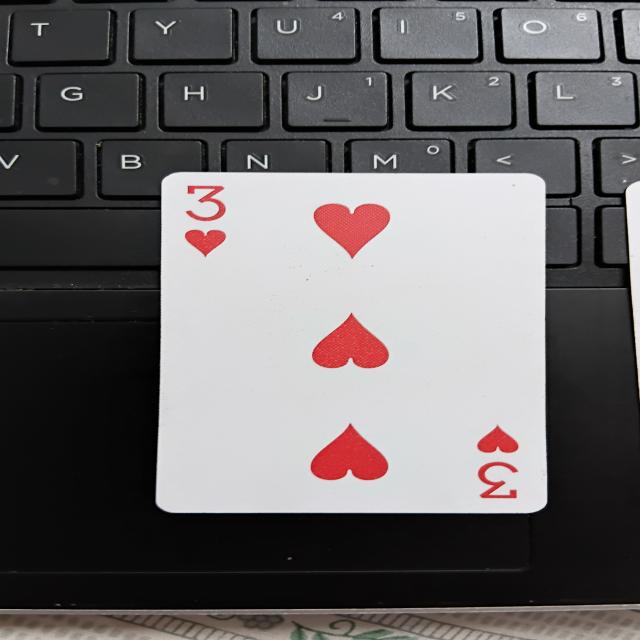3H: (165, 171, 549, 510)
